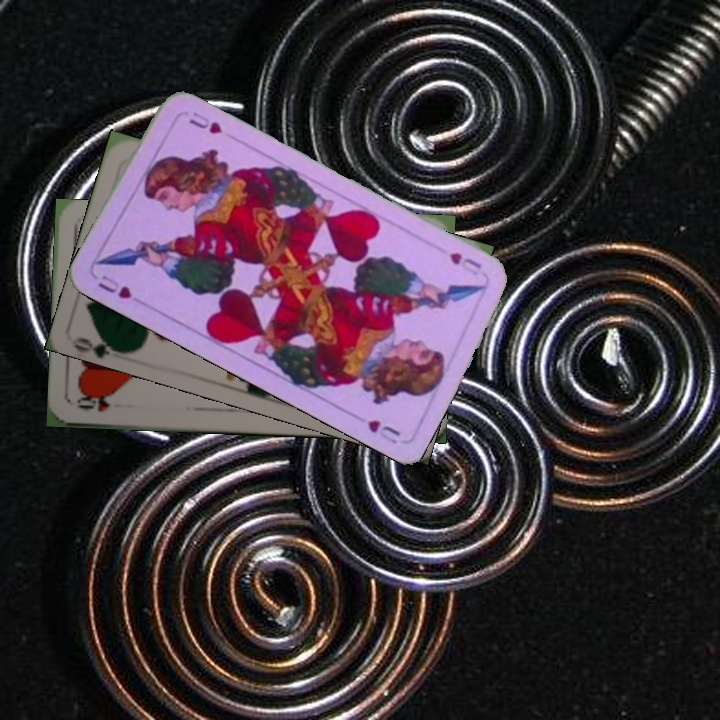GO: (72, 327, 131, 358)
HO: (73, 392, 112, 414)
HU: (445, 248, 484, 282), (94, 270, 135, 302)
